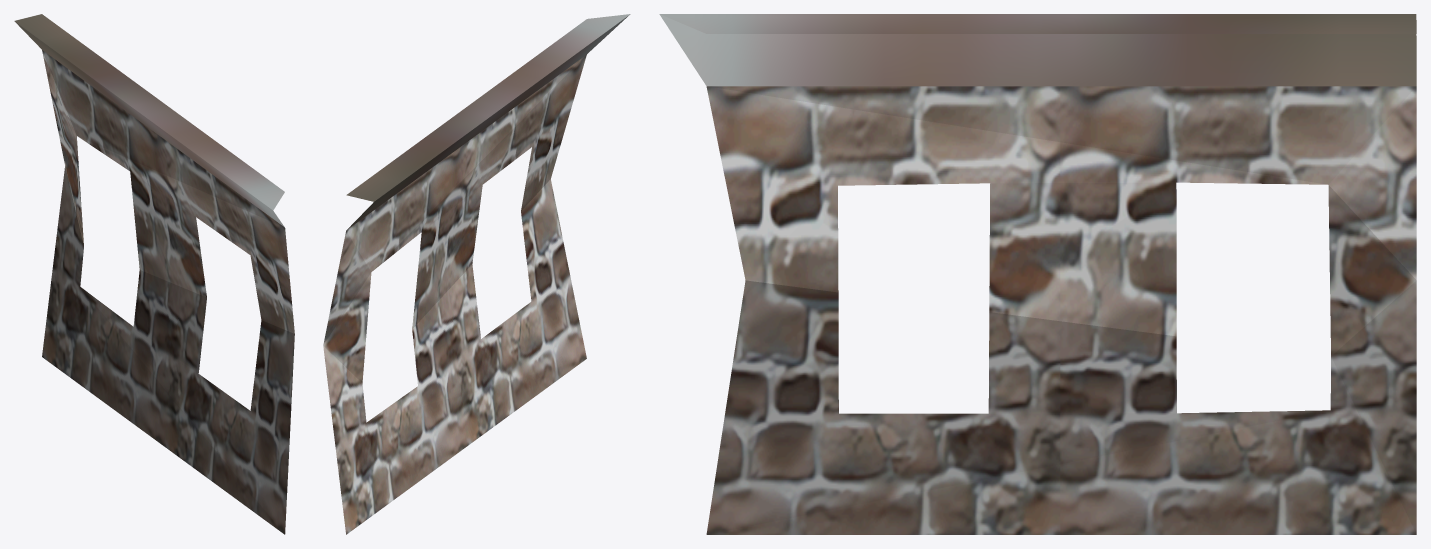
File: W_A2l_ff [DunkleSteine]_969.glb
3 views of the same model, side by side, from view 1: azimuth 30°, elevation 25°; view 2: azimuth 150°, elevation 25°; view 3: azimuth 270°, elevation 25° (orthographic). The views are drawn at different scales.
Visible parts, largest first — view 1: polySurfaceShape1183, polySurfaceShape1185; view 2: polySurfaceShape1183, polySurfaceShape1185; view 3: polySurfaceShape1183, polySurfaceShape1185.
Boxes of the visible parts, <box> form: polySurfaceShape1183: <box>42,50,294,534</box>; polySurfaceShape1185: <box>14,14,284,227</box>; polySurfaceShape1183: <box>323,54,586,534</box>; polySurfaceShape1185: <box>346,14,630,229</box>; polySurfaceShape1183: <box>706,86,1416,534</box>; polySurfaceShape1185: <box>659,14,1416,86</box>.
Size of the model in its own units: 0.0607 by 0.3891 by 0.5333.
Materials: 2 (2 with a texture image).
